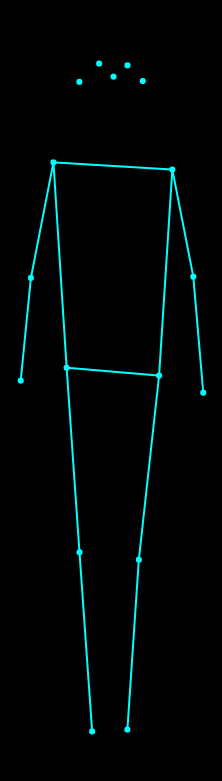mountain: (12, 51, 212, 739)
